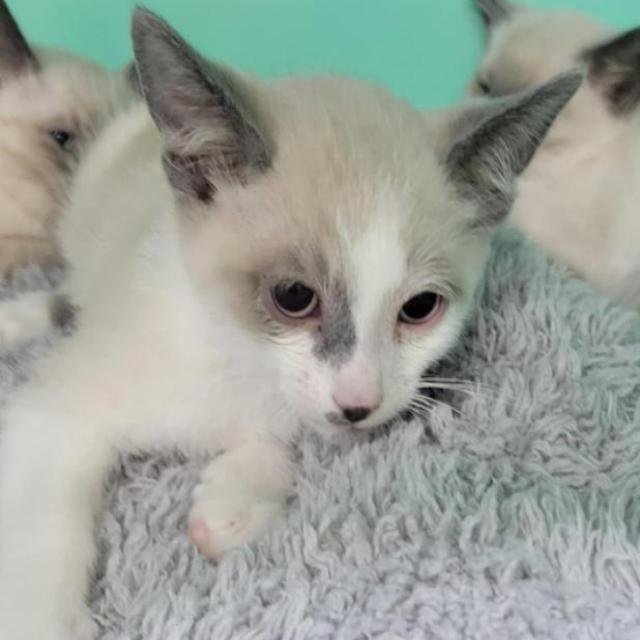siamese_cat: (103, 0, 578, 460)
